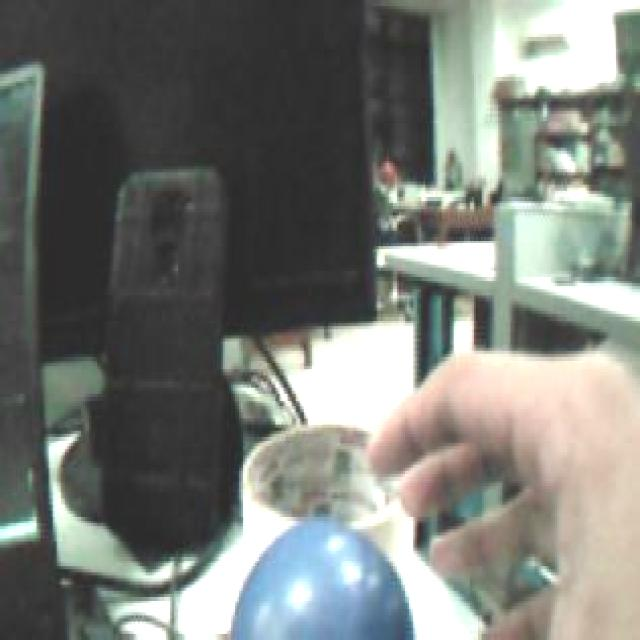BallPurple: (225, 512, 416, 640)
